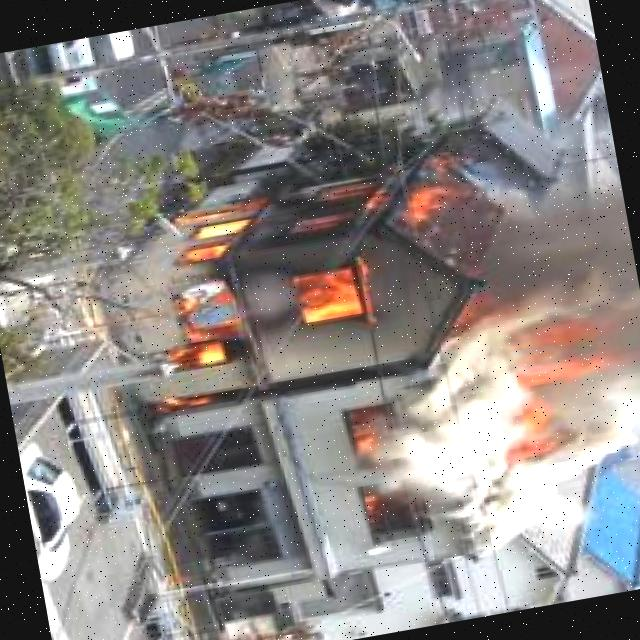fire: (128, 148, 493, 377), (502, 299, 634, 400), (496, 398, 566, 482), (343, 408, 374, 464)
